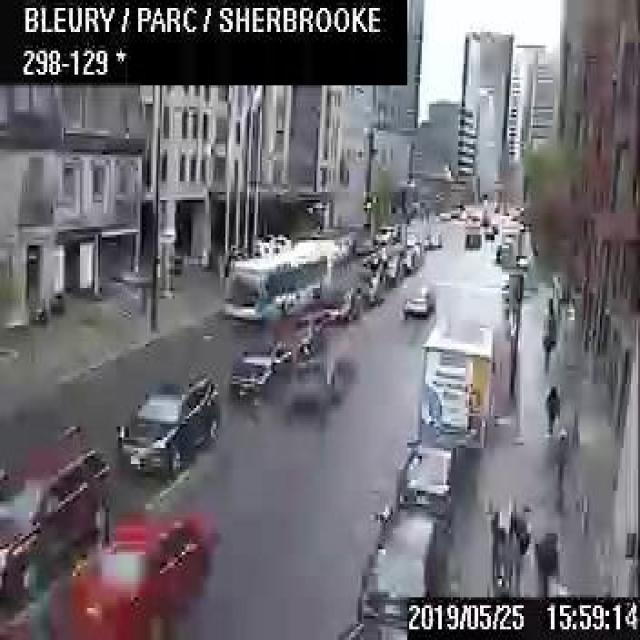bus: (222, 235, 349, 319)
pedestrian: (531, 525, 558, 592), (544, 378, 558, 431), (540, 317, 553, 371)
vehicle: (0, 419, 113, 597), (62, 515, 211, 637), (355, 512, 448, 624), (116, 374, 220, 469), (419, 323, 492, 450), (394, 440, 460, 530), (229, 337, 289, 399), (399, 283, 434, 318), (464, 226, 479, 247)
